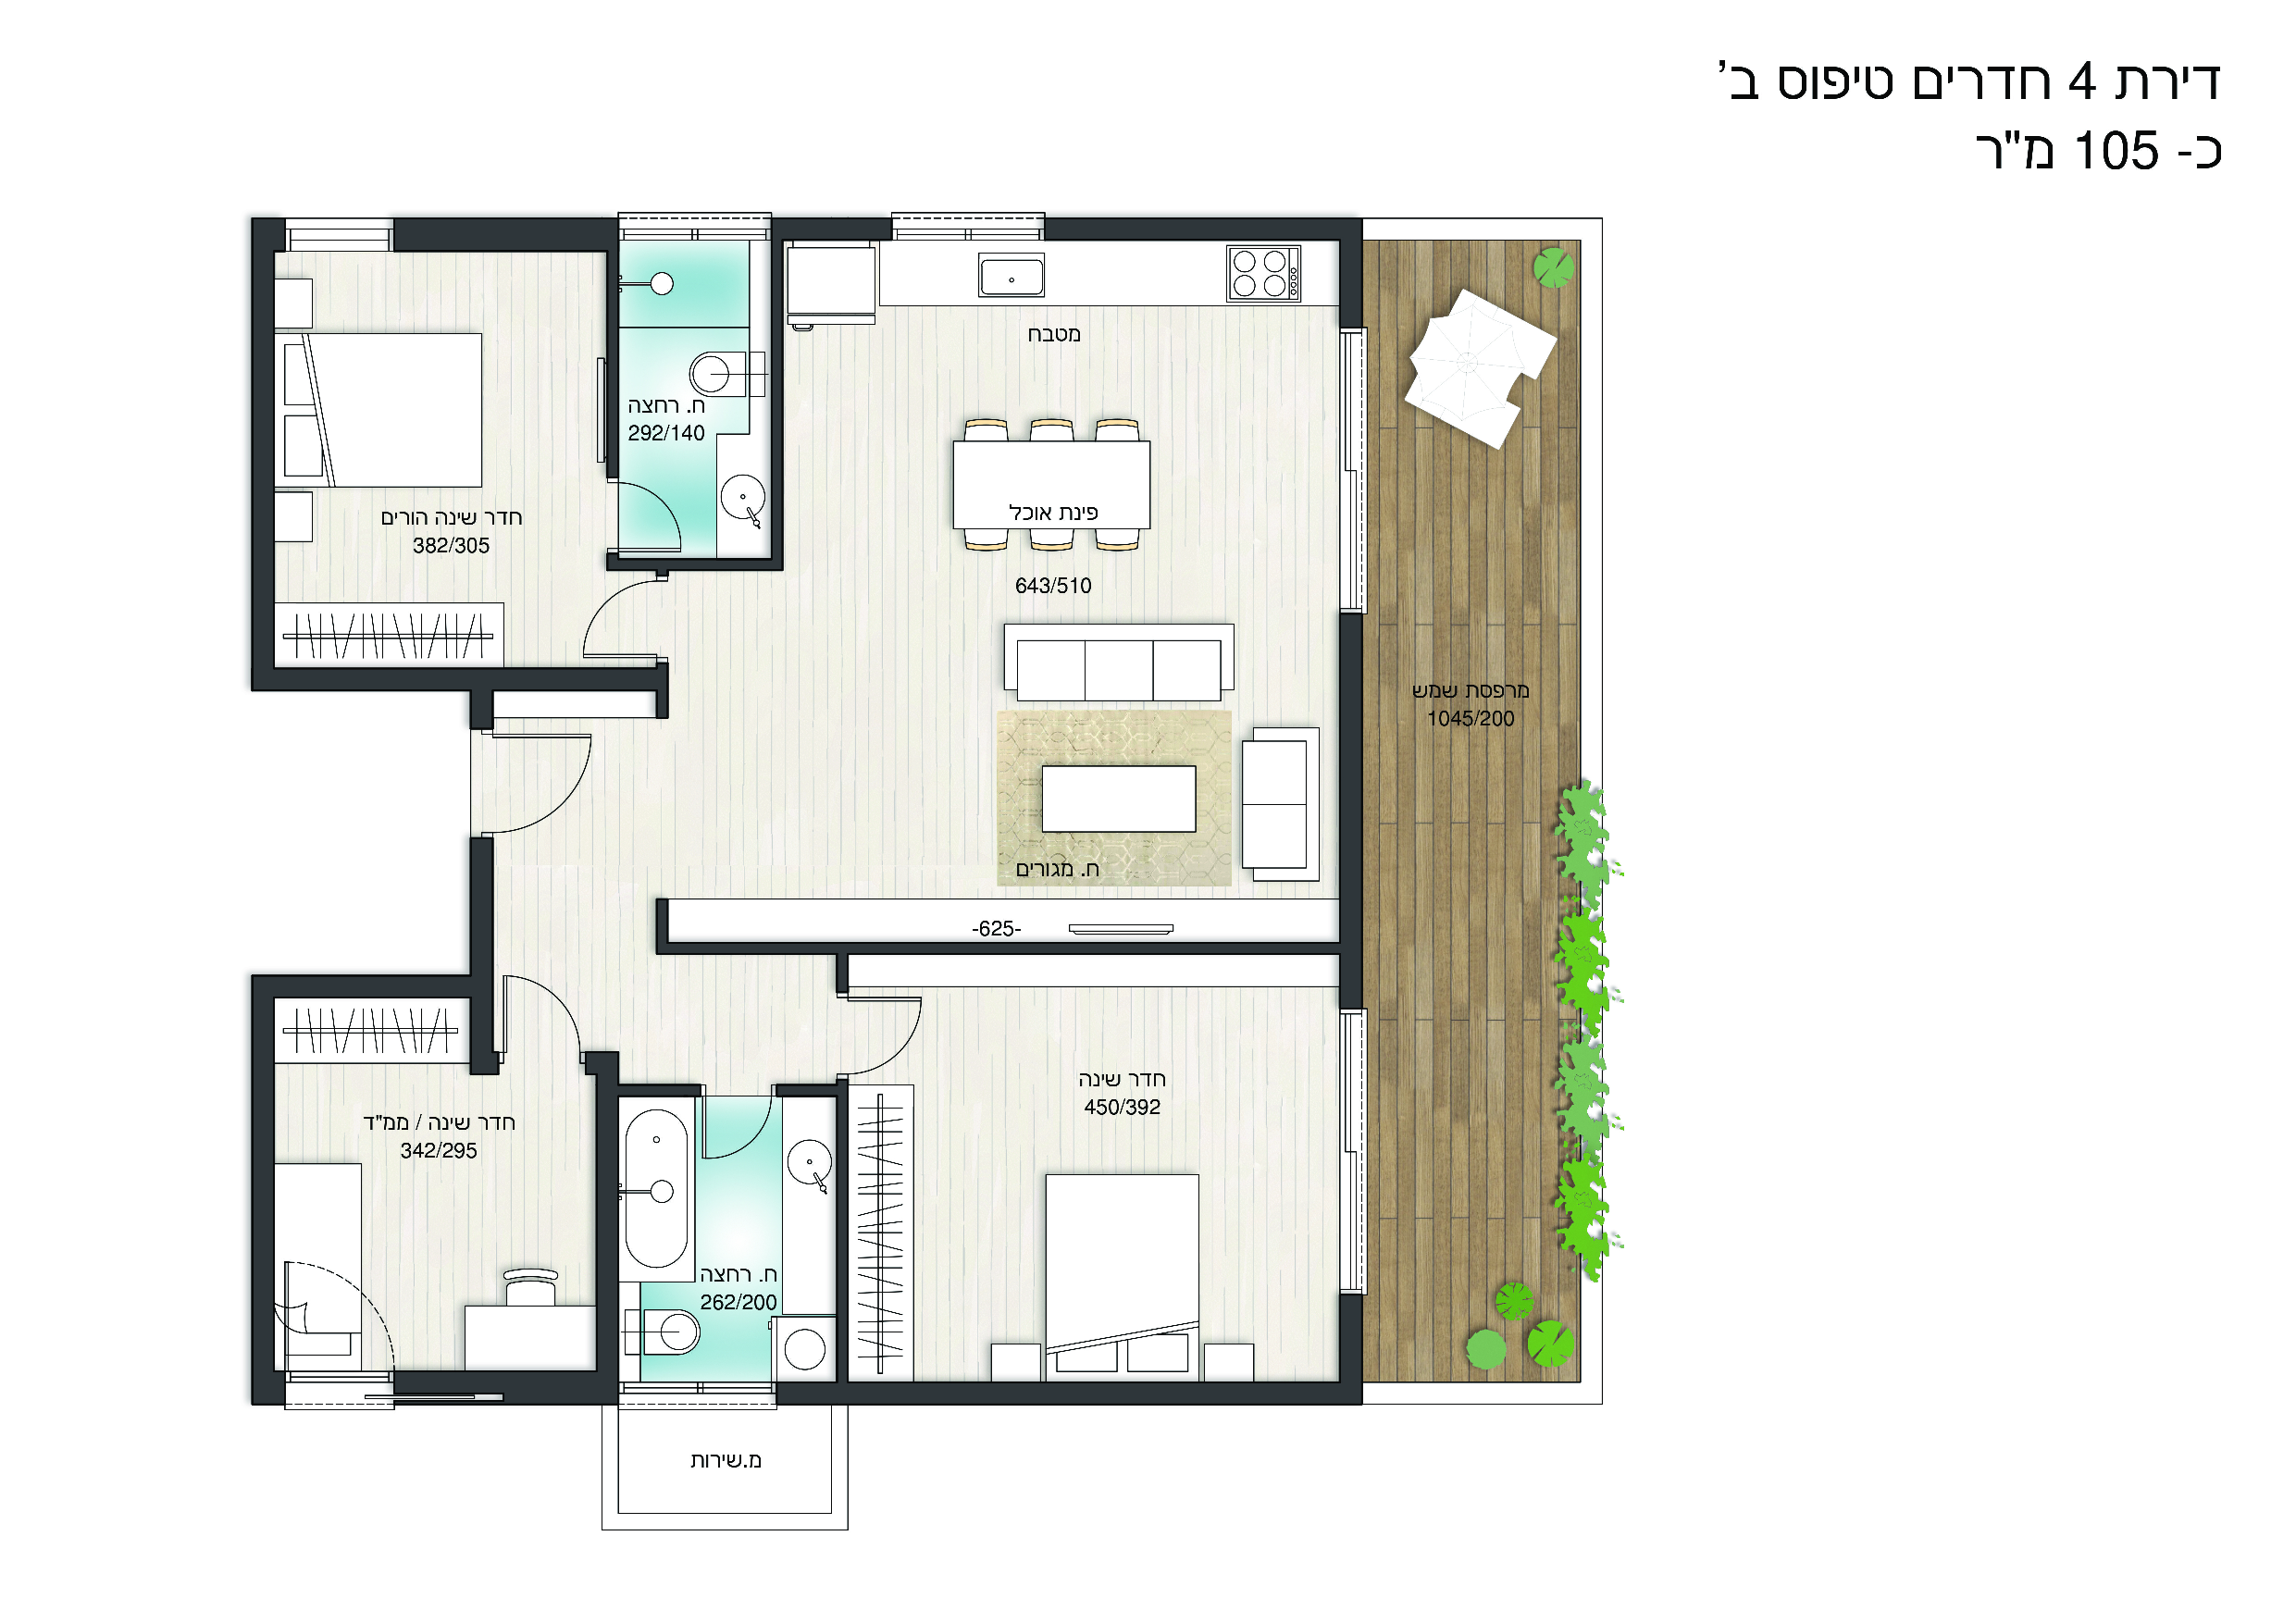door: (279, 1249, 408, 1368), (506, 724, 611, 848), (569, 573, 659, 662), (497, 970, 590, 1052), (850, 992, 929, 1078), (699, 1098, 771, 1175), (625, 476, 696, 553), (697, 1101, 771, 1172)
